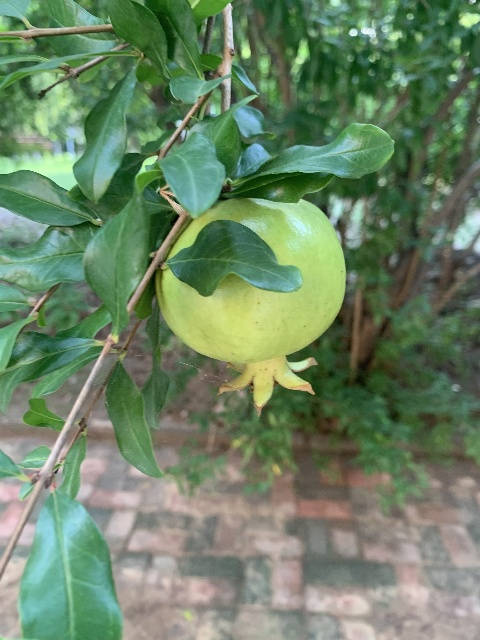mid-growth: (155, 196, 346, 416)
